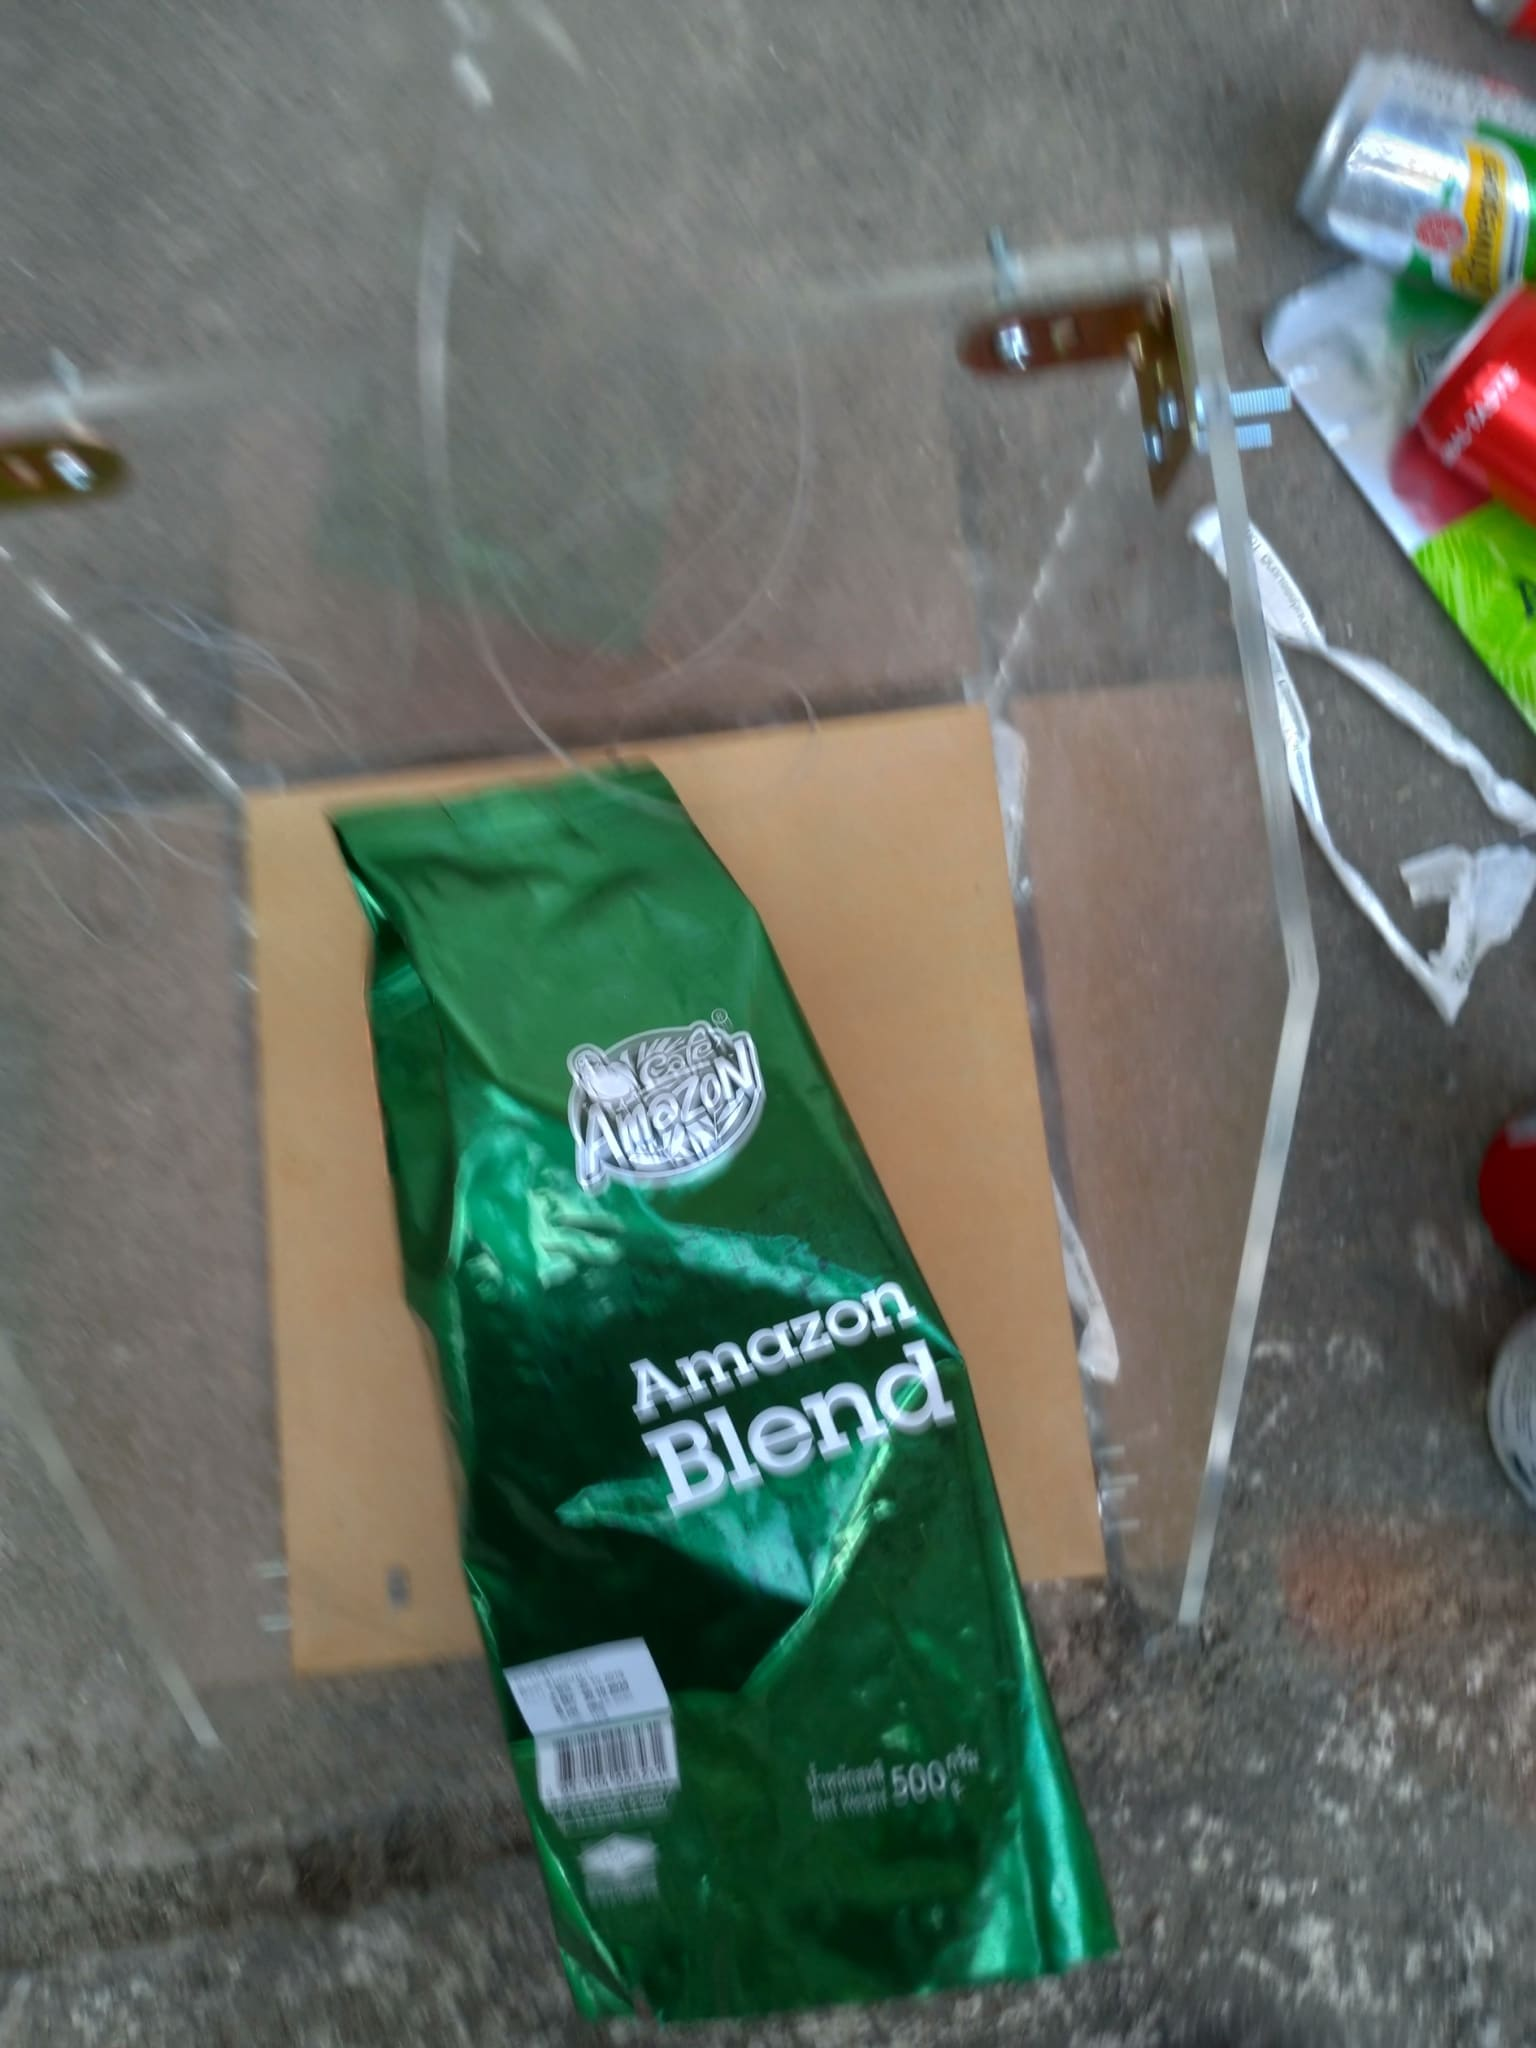AlCan: (1284, 47, 1534, 306), (1383, 263, 1536, 508)
Others: (340, 748, 1121, 2033)
